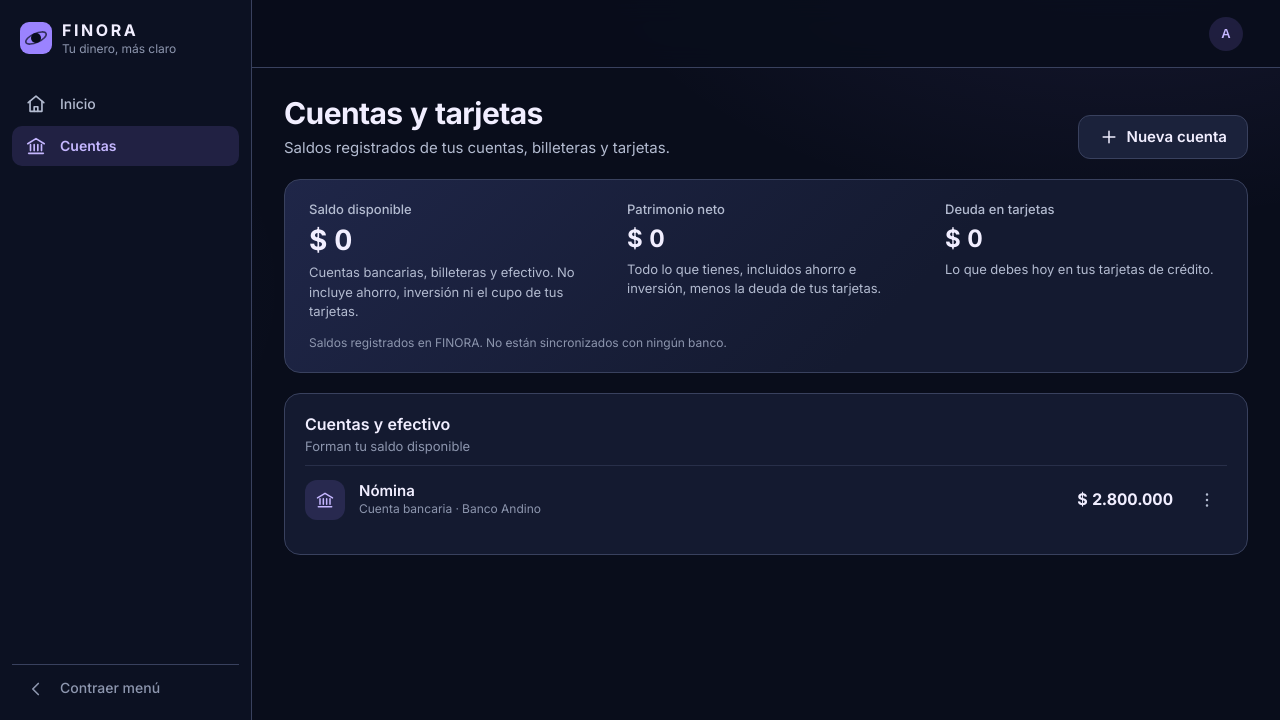
editar cuenta (RF-ACC-05 y 06) › VAL-ACC-07: con movimientos, el saldo inicial no se edita ni se envía
Click the button named "Acciones de Nómina": (1207, 500) left=1187, top=480, right=1227, bottom=520
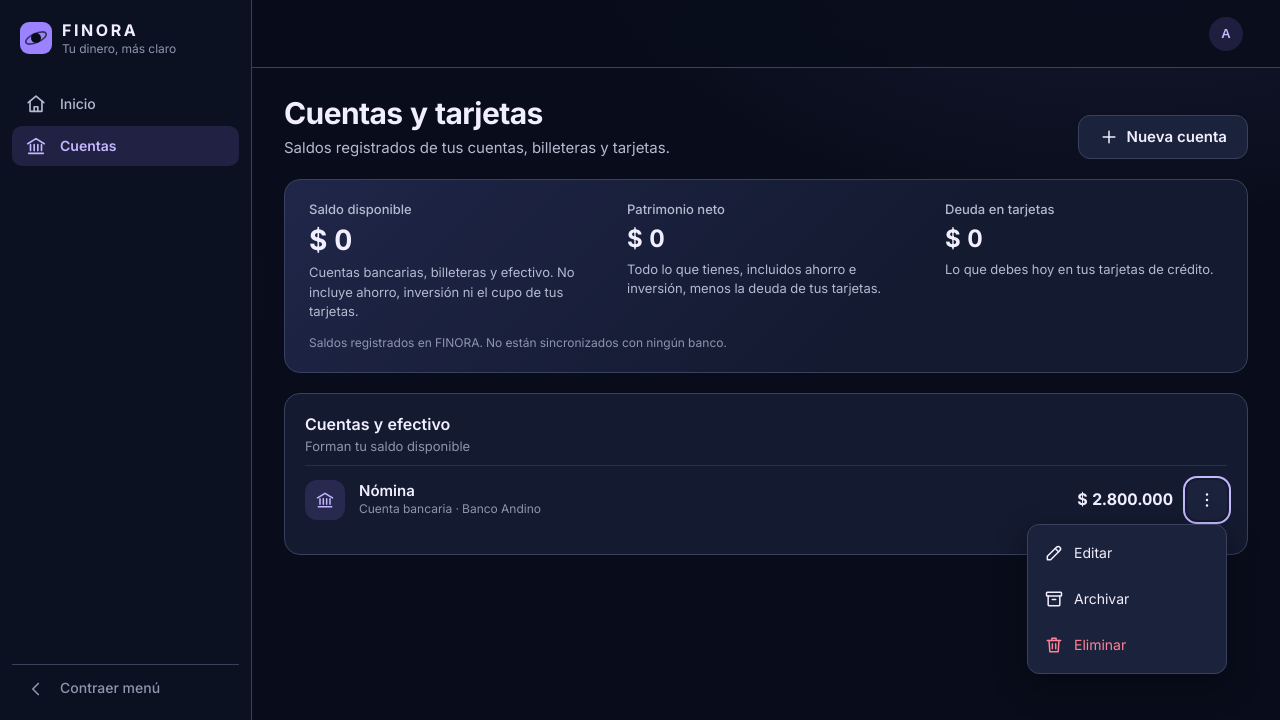
Click the button "Editar": (1127, 553) left=1034, top=531, right=1220, bottom=575
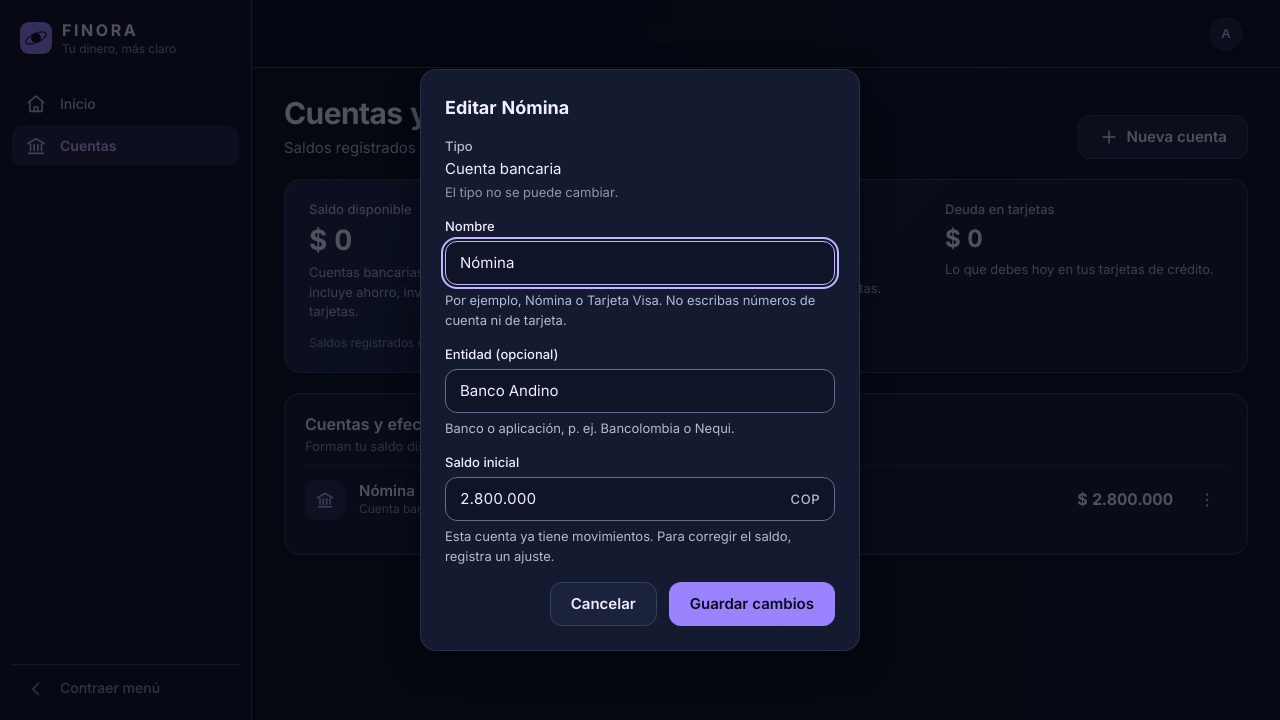
Click the button "Guardar cambios": (752, 604) left=669, top=582, right=835, bottom=626
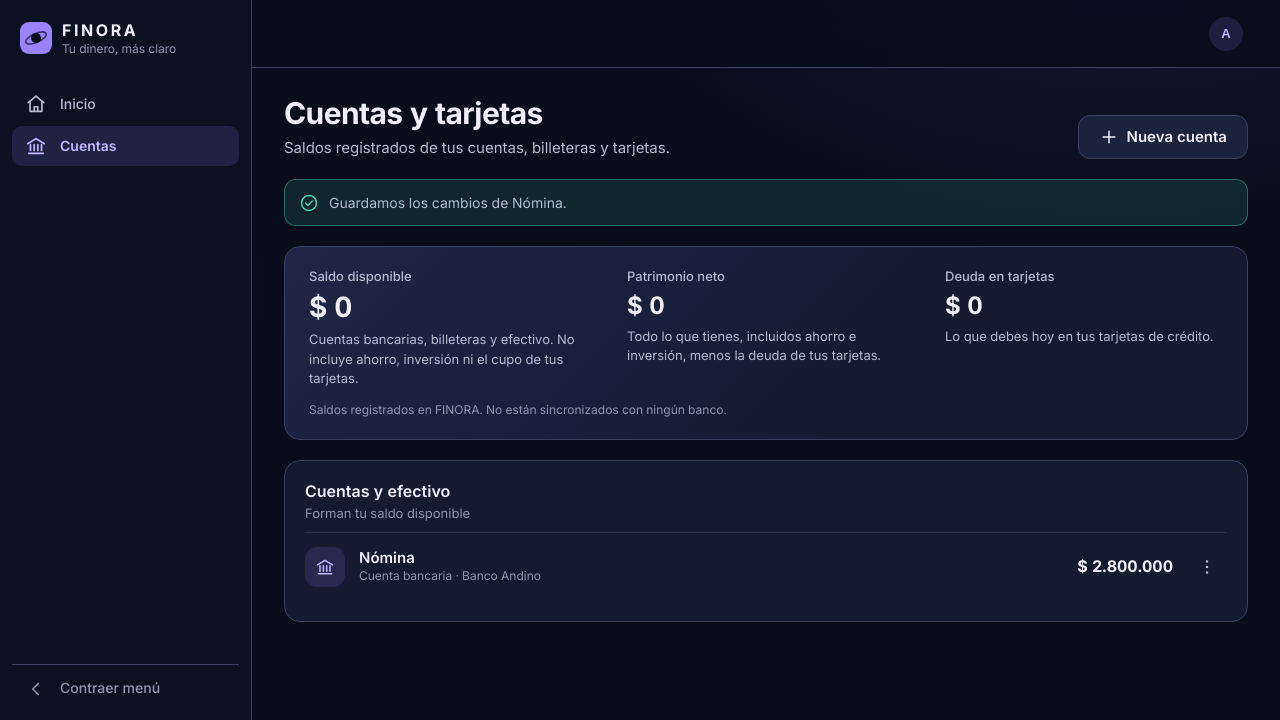
Expected: the text "Guardamos los cambios de Nómina." is shown, left=329, top=192, right=567, bottom=213
